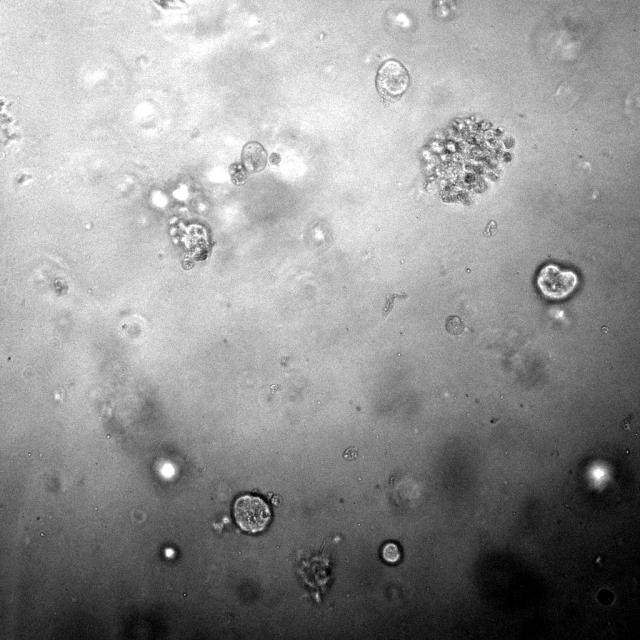organoid: (420, 115, 515, 205), (212, 489, 281, 534), (169, 216, 215, 268), (295, 546, 333, 602), (229, 141, 268, 184), (536, 264, 578, 301), (375, 58, 409, 101), (378, 540, 403, 565), (445, 316, 464, 334), (269, 152, 281, 164)
